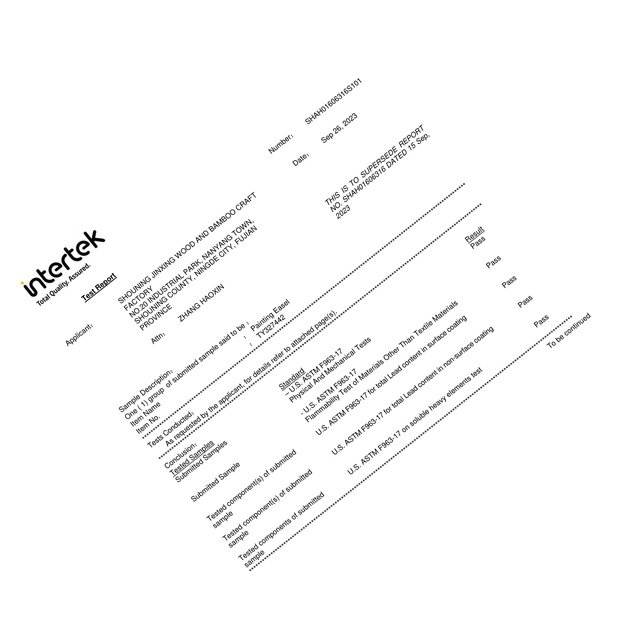intertek: (20, 227, 107, 299)
